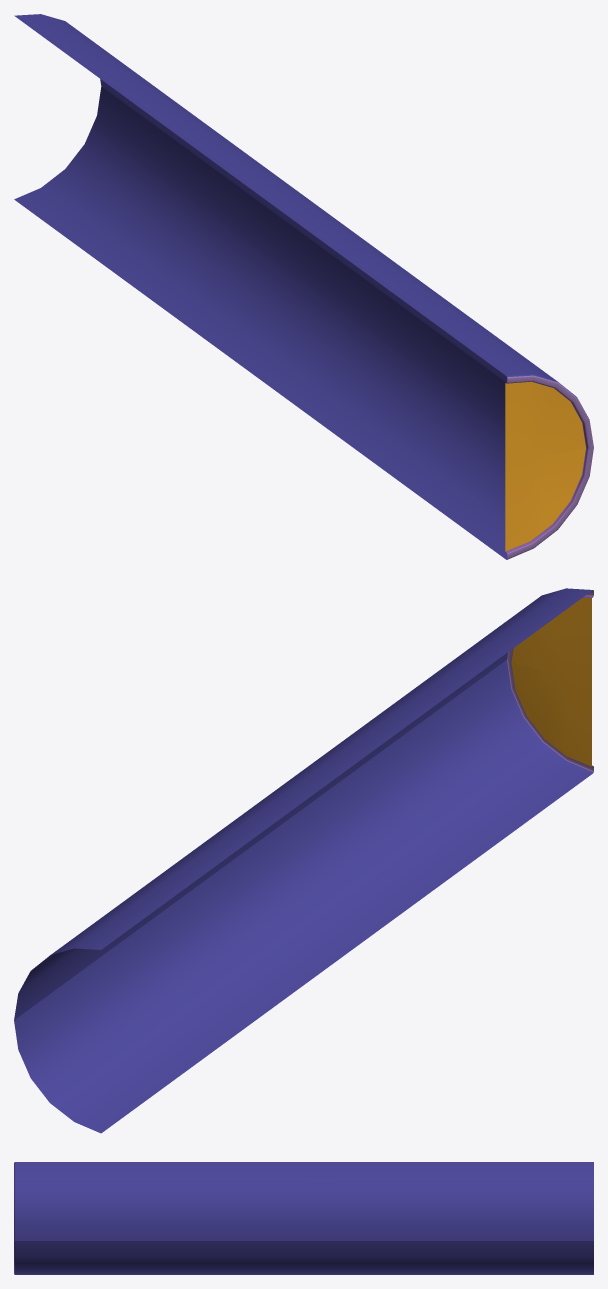
File: Road_final_03.fbx
The picture shows the model from 3 angles, top to bottom: view 1: azimuth 30°, elevation 25°; view 2: azimuth 150°, elevation 25°; view 3: azimuth 270°, elevation 25°; orthographic projection. The views are drawn at different scales.
Parts seen in each view (by area): view 1: Road_final_03; view 2: Road_final_03; view 3: Road_final_03.
Part boxes in pixels (x1,y1,x2,y2): Road_final_03: [14, 14, 593, 559]; Road_final_03: [14, 588, 593, 1133]; Road_final_03: [14, 1162, 593, 1274].
Size of the model in its own units: 250 by 2447 by 503.
